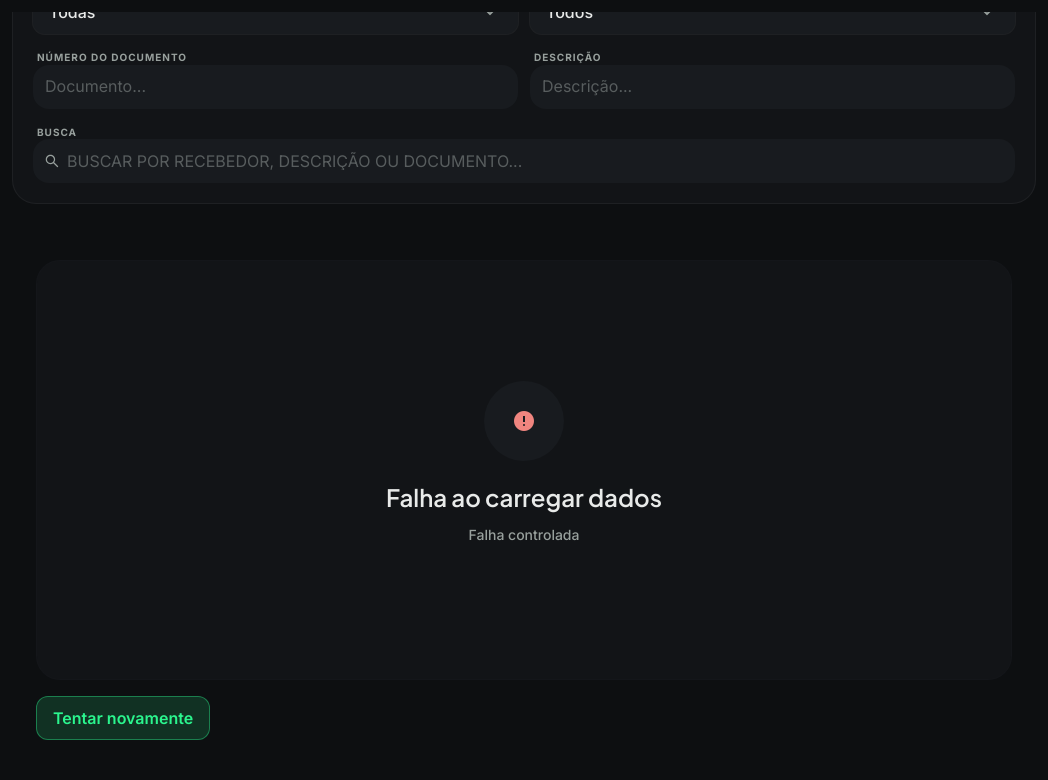
Test: FinancialAccountListPage › renders the error state and retries loading
Expected: the heading "Falha ao carregar dados" is shown, x1=386 y1=481 x2=662 y2=513
Expected: the text "Falha controlada" is shown, x1=468 y1=525 x2=579 y2=545
Click the button "Tentar novamente" at (123, 718), box x1=36 y1=696 x2=210 y2=740
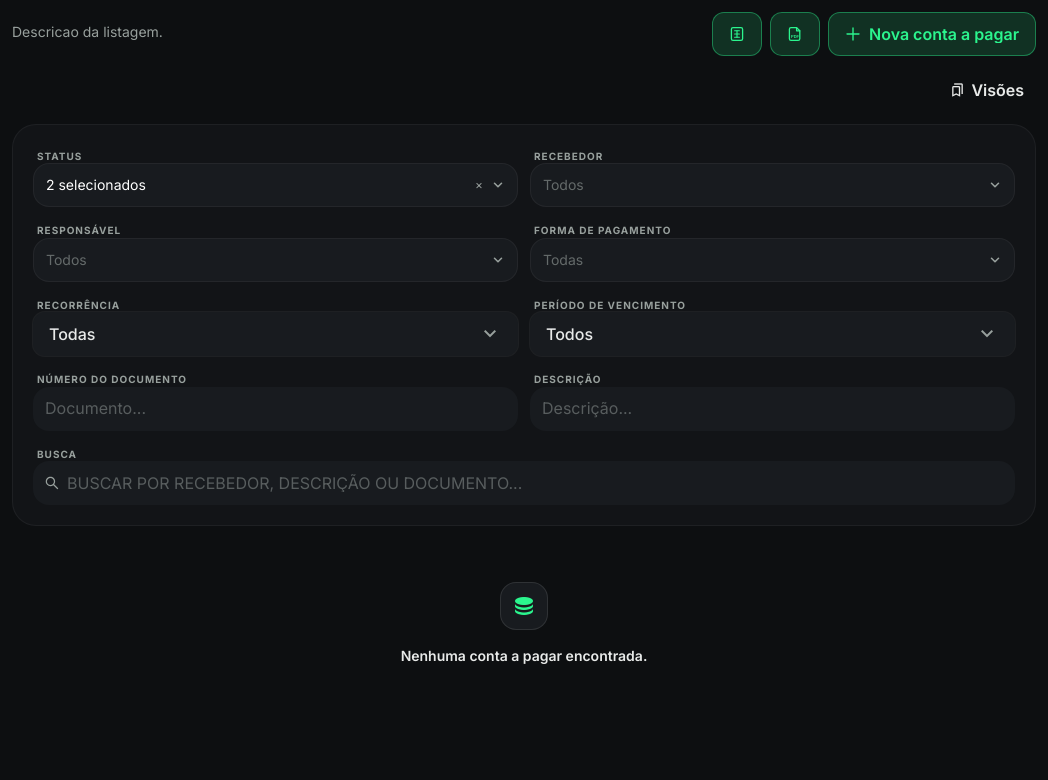
Now the element with test id "data-table-empty" is shown, box x1=401 y1=582 x2=647 y2=664
